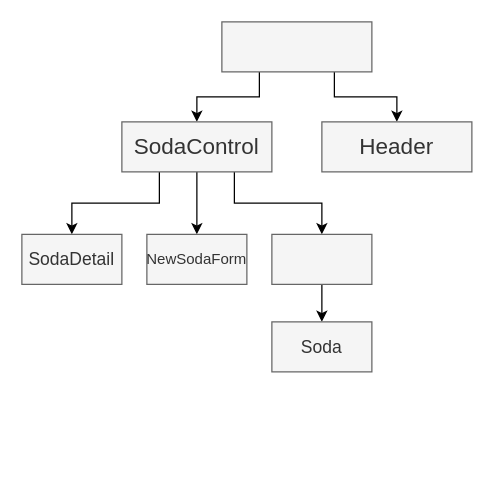
The diagram is 494 pixels wide and 504 high, and some of its shapes have lost their labels. Each missing label, with the box of its shape:
App: (221, 21, 372, 72)
SodaList: (271, 233, 372, 284)
